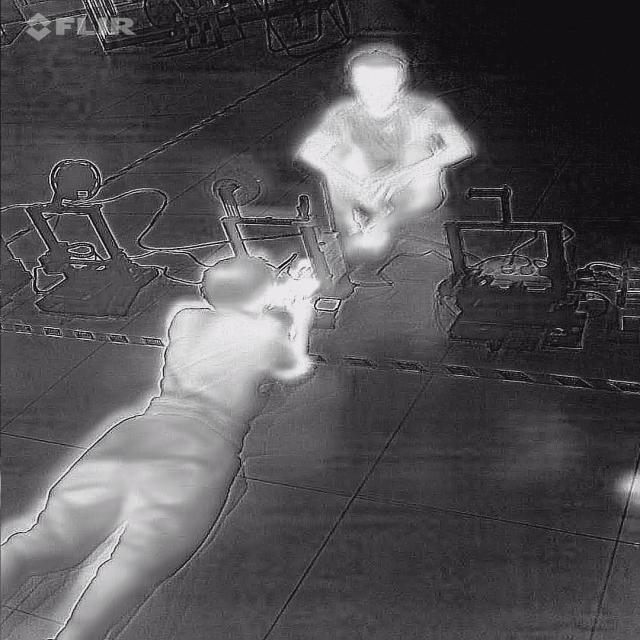Victim: (2, 248, 336, 638), (290, 36, 483, 264)
